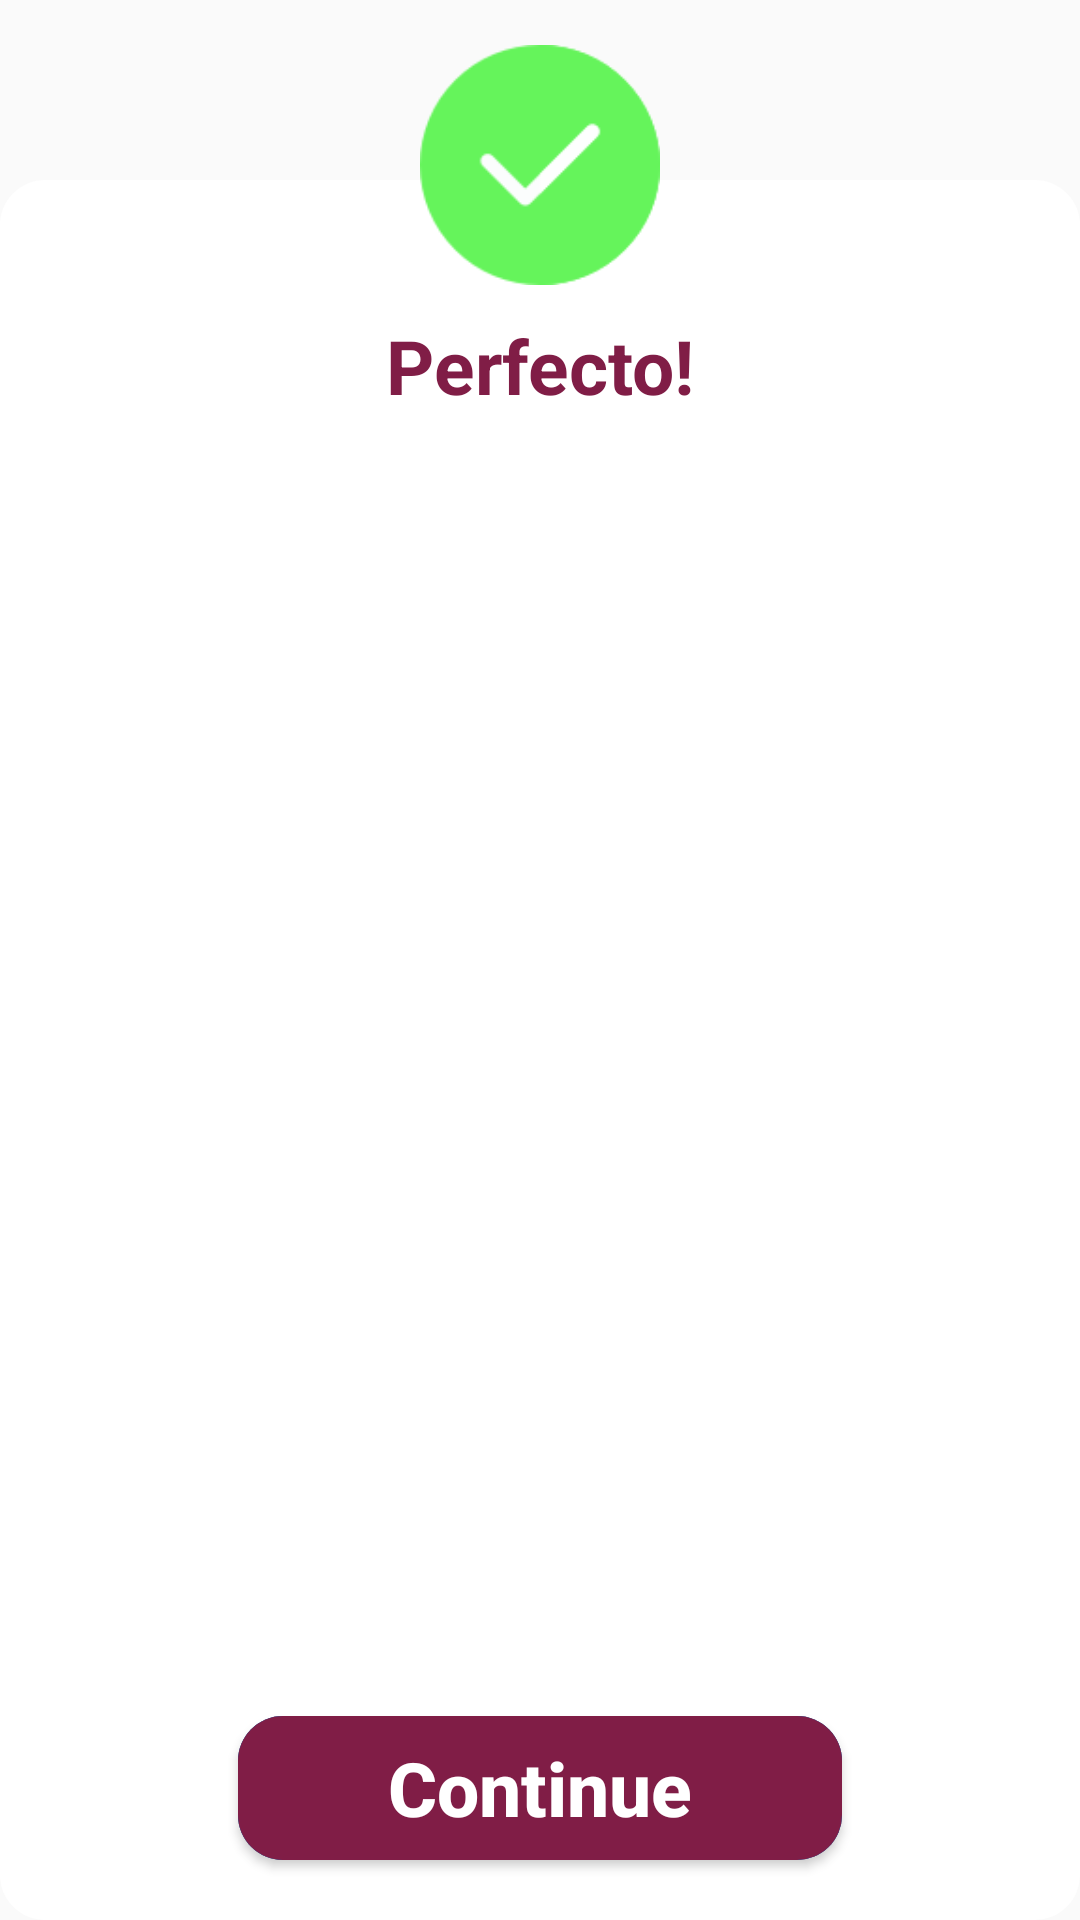

Screen size 1080 x 1920. Icon name, then its box in pixels as Rect(x1, y1, x2, y2):
correct: Rect(420, 45, 660, 285)
